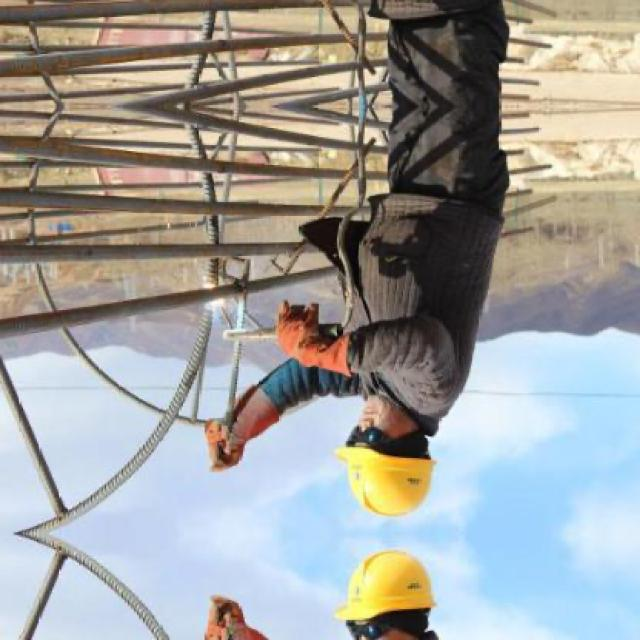con casco: (290, 362, 445, 524)
